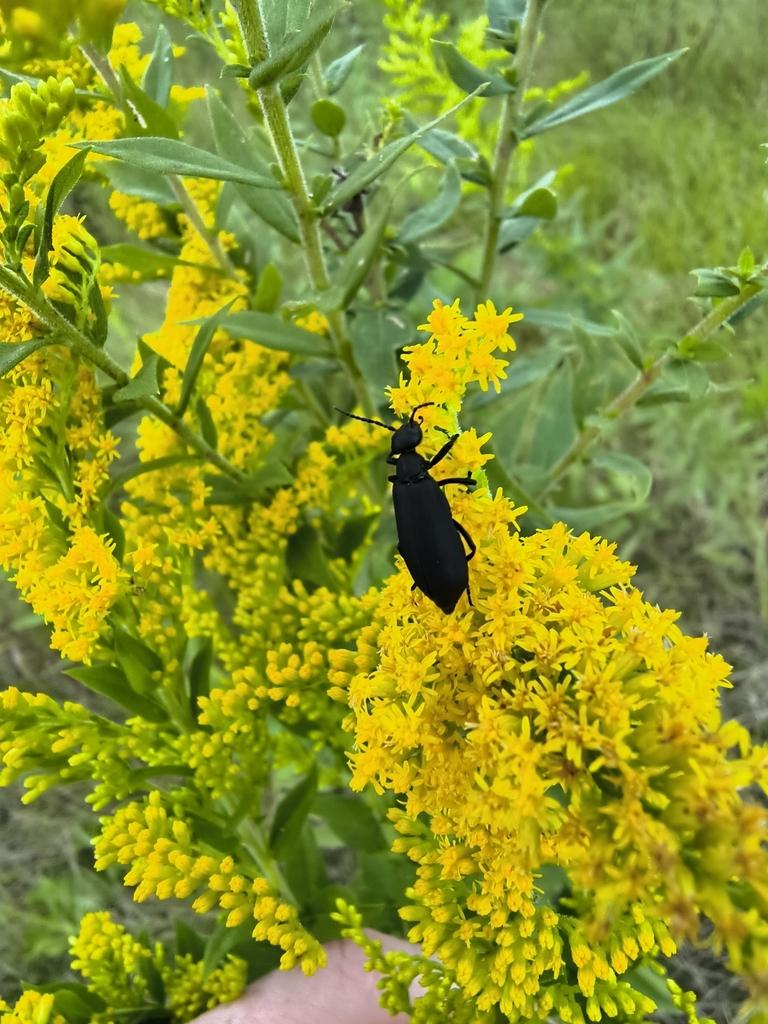blister_beetle: (306, 365, 516, 648)
